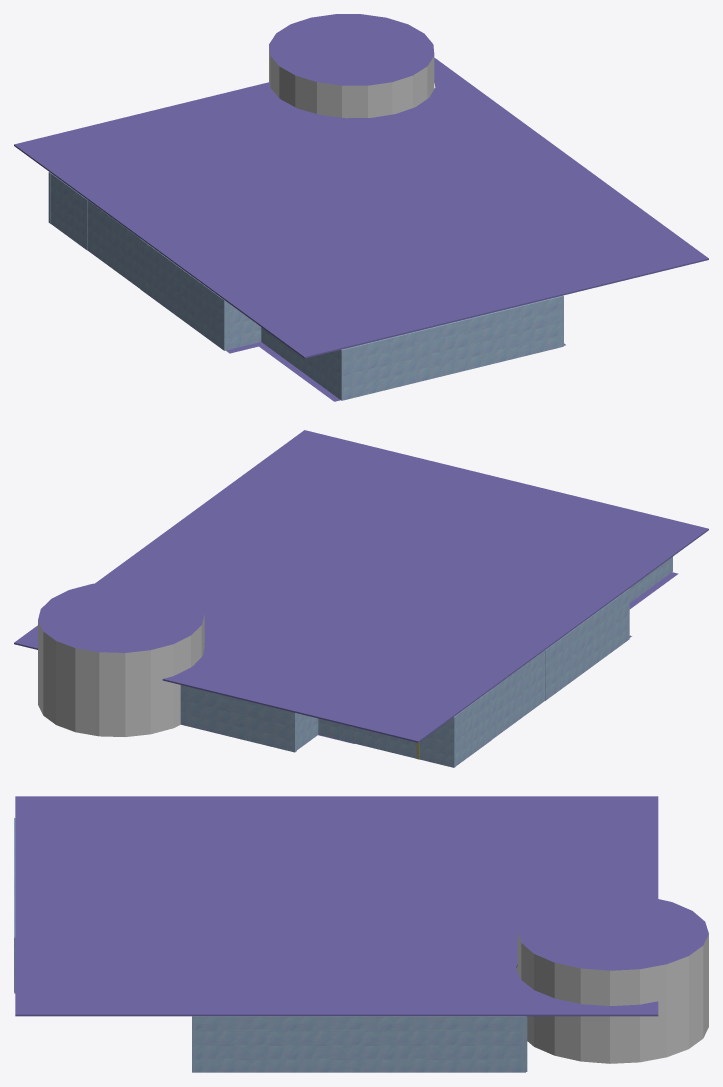
Rendered from base_level_one_tex.fbx.
3 views of the same model, one above another, from view 1: azimuth 30°, elevation 25°; view 2: azimuth 150°, elevation 25°; view 3: azimuth 270°, elevation 25° (orthographic). The views are drawn at different scales.
Parts seen in each view (by area): view 1: pCube2, pCylinder2, Wall1, Wall6, Door, Wall2, Wall7, Wall5, Floor1; view 2: pCube2, pCylinder2, Wall9, Wall6, Wall8, Door, Wall7, Wall2, Wall10; view 3: pCube2, pCylinder2, Wall4.
Boxes of the visible parts, <box> form: pCube2: <box>14,57,708,358</box>; pCylinder2: <box>269,14,434,118</box>; Wall1: <box>343,296,561,400</box>; Wall6: <box>140,239,227,350</box>; Door: <box>87,200,140,288</box>; Wall2: <box>261,327,343,400</box>; Wall7: <box>50,173,87,249</box>; Wall5: <box>227,302,261,349</box>; Floor1: <box>226,342,565,401</box>; pCube2: <box>14,430,708,742</box>; pCylinder2: <box>38,581,204,736</box>; Wall9: <box>180,685,296,752</box>; Wall6: <box>545,589,629,700</box>; Wall8: <box>318,716,455,767</box>; Door: <box>492,650,544,739</box>; Wall7: <box>455,689,491,765</box>; Wall2: <box>629,557,672,602</box>; Wall10: <box>297,713,318,749</box>; pCube2: <box>15,796,658,1016</box>; pCylinder2: <box>517,894,708,1063</box>; Wall4: <box>196,1016,525,1072</box>.
Bounding box in the file's own units: 12.6 × 2.5 × 16.91.
